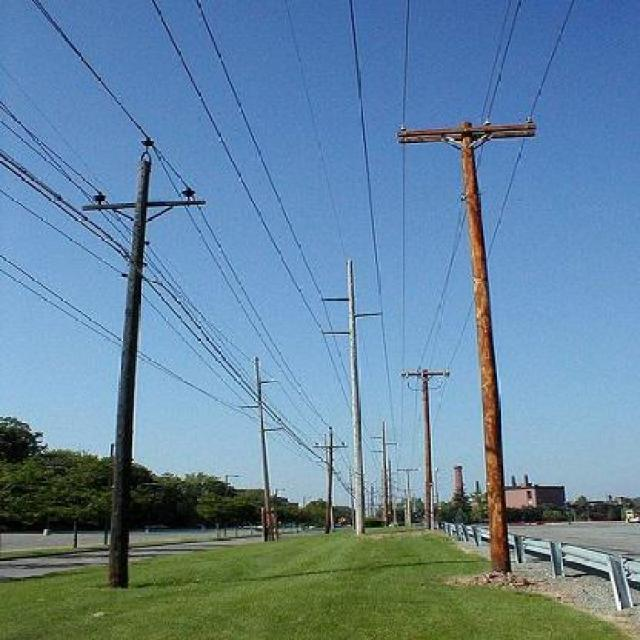pole: (389, 108, 545, 569), (77, 131, 203, 594), (315, 257, 383, 531), (400, 363, 454, 523)
